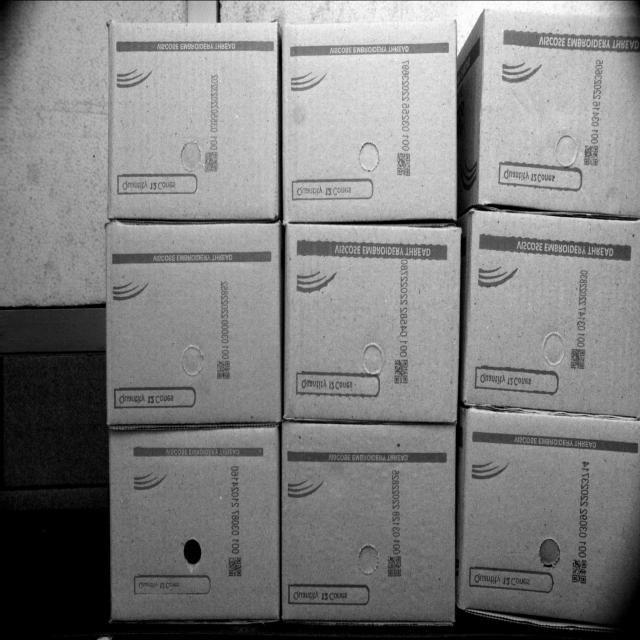cardboxes: (460, 412, 640, 639), (464, 209, 640, 422), (284, 13, 456, 225), (103, 226, 281, 426), (113, 9, 279, 217), (285, 224, 463, 416), (104, 429, 278, 624), (282, 425, 457, 618), (480, 12, 640, 214)
